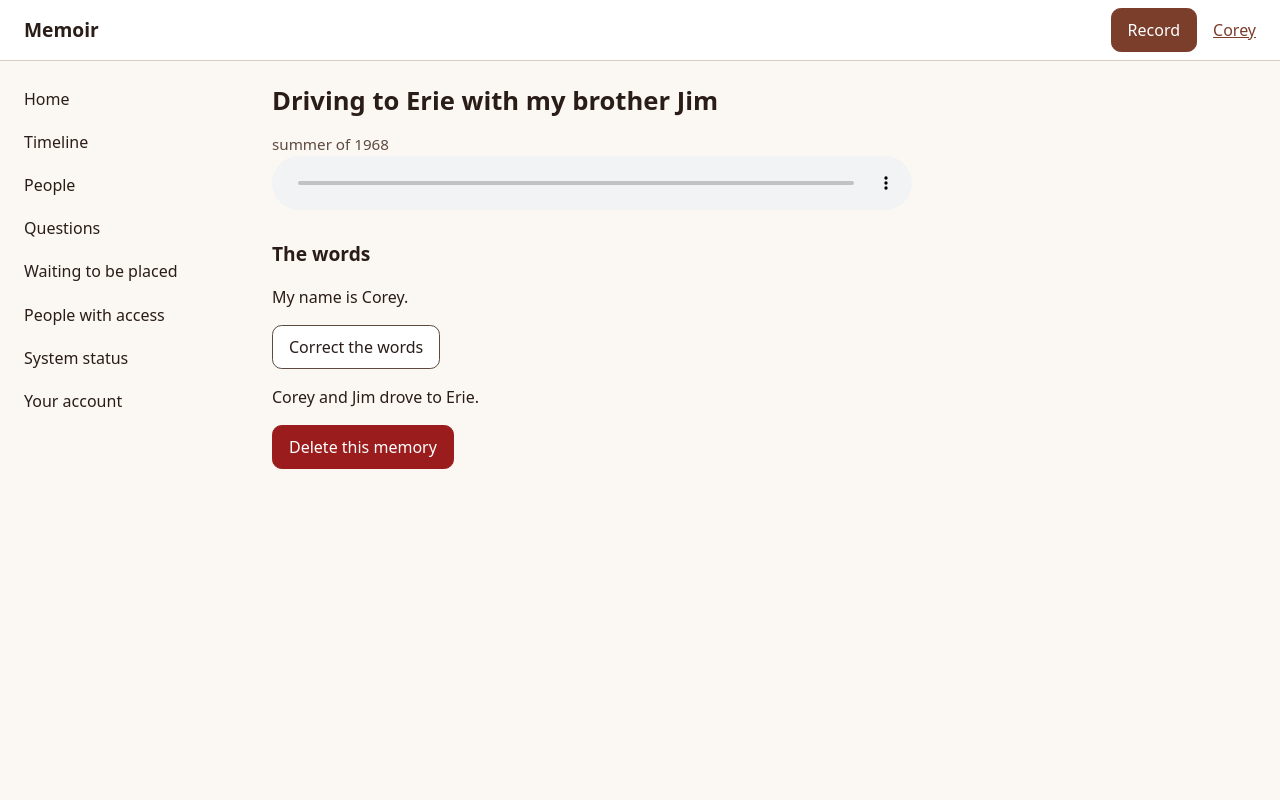
it: the words can be corrected
Click the button "Correct the words" at (356, 347), box [272,325,440,369]
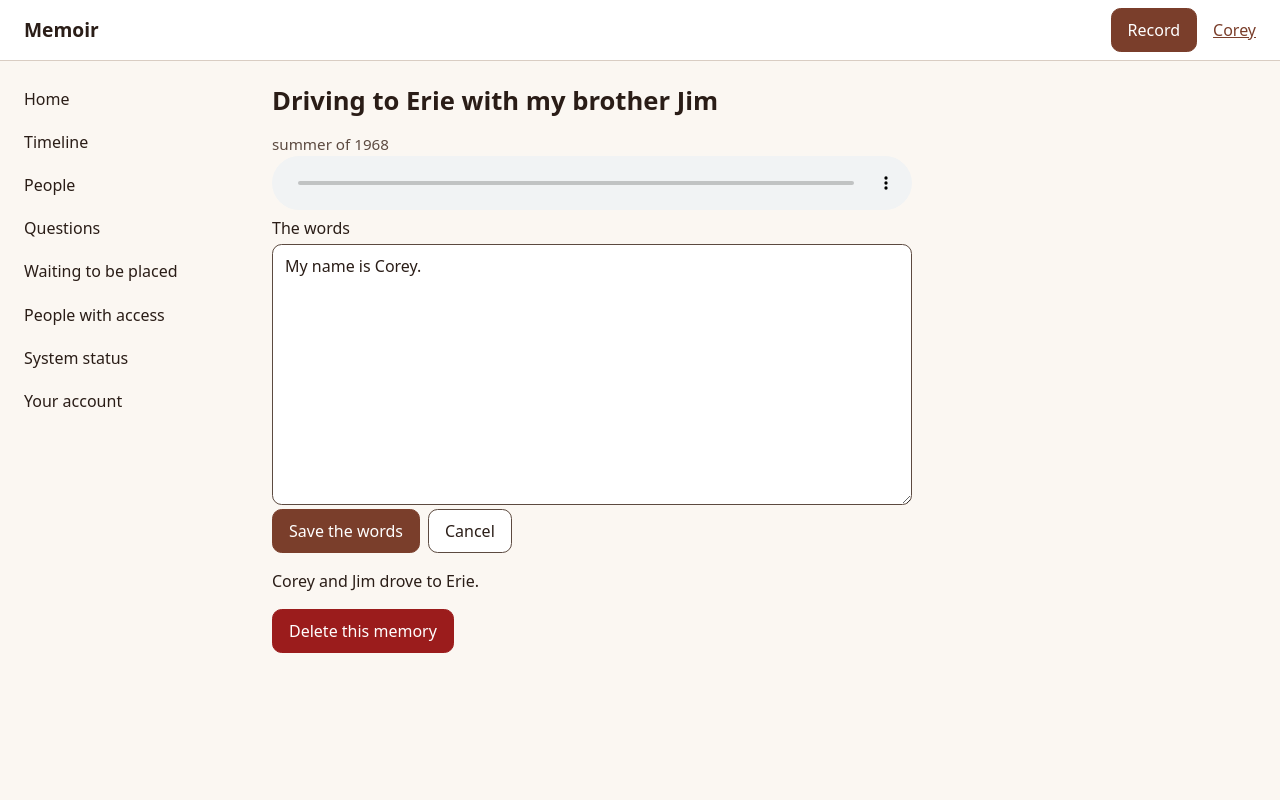
Replace the text in the text box labelled "The words" with "My name is Corey Murphy." at (592, 374), box [272,244,912,505]
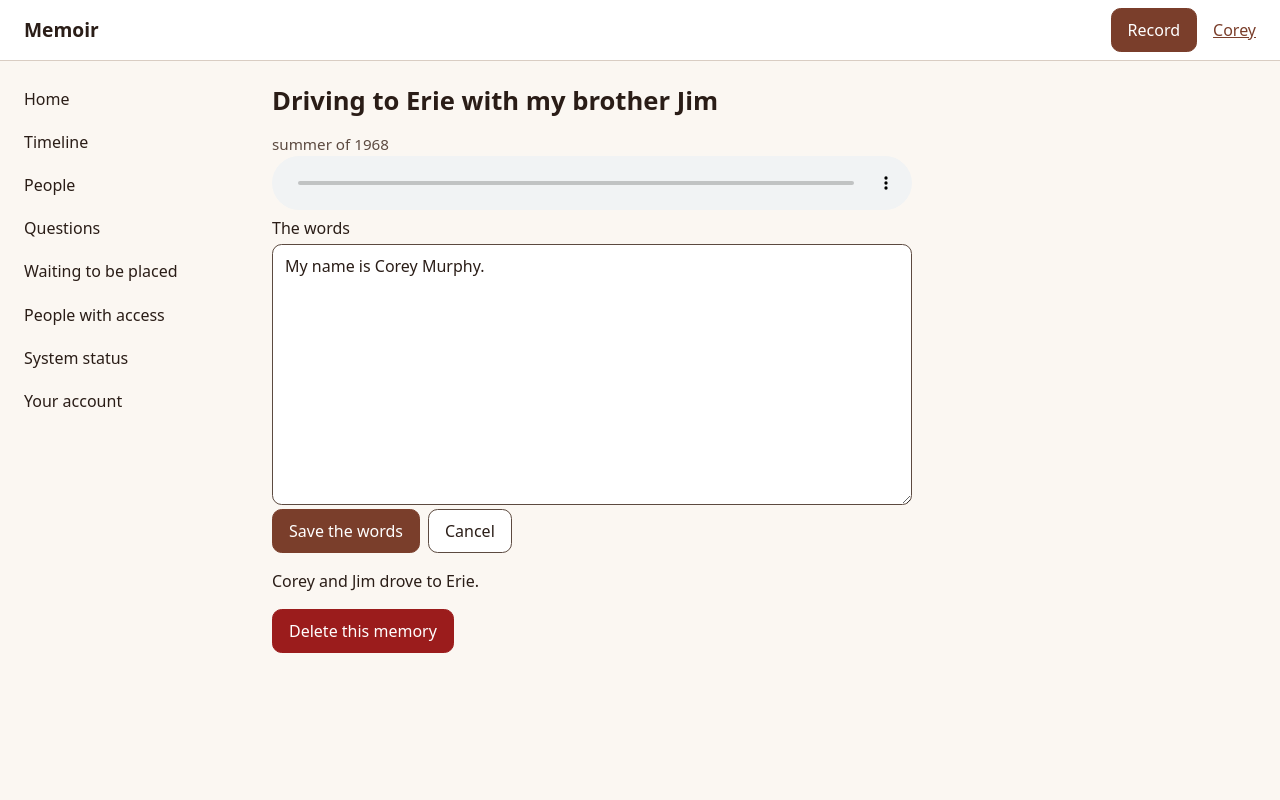
Click the button "Save the words" at (346, 531), box [272,509,420,553]
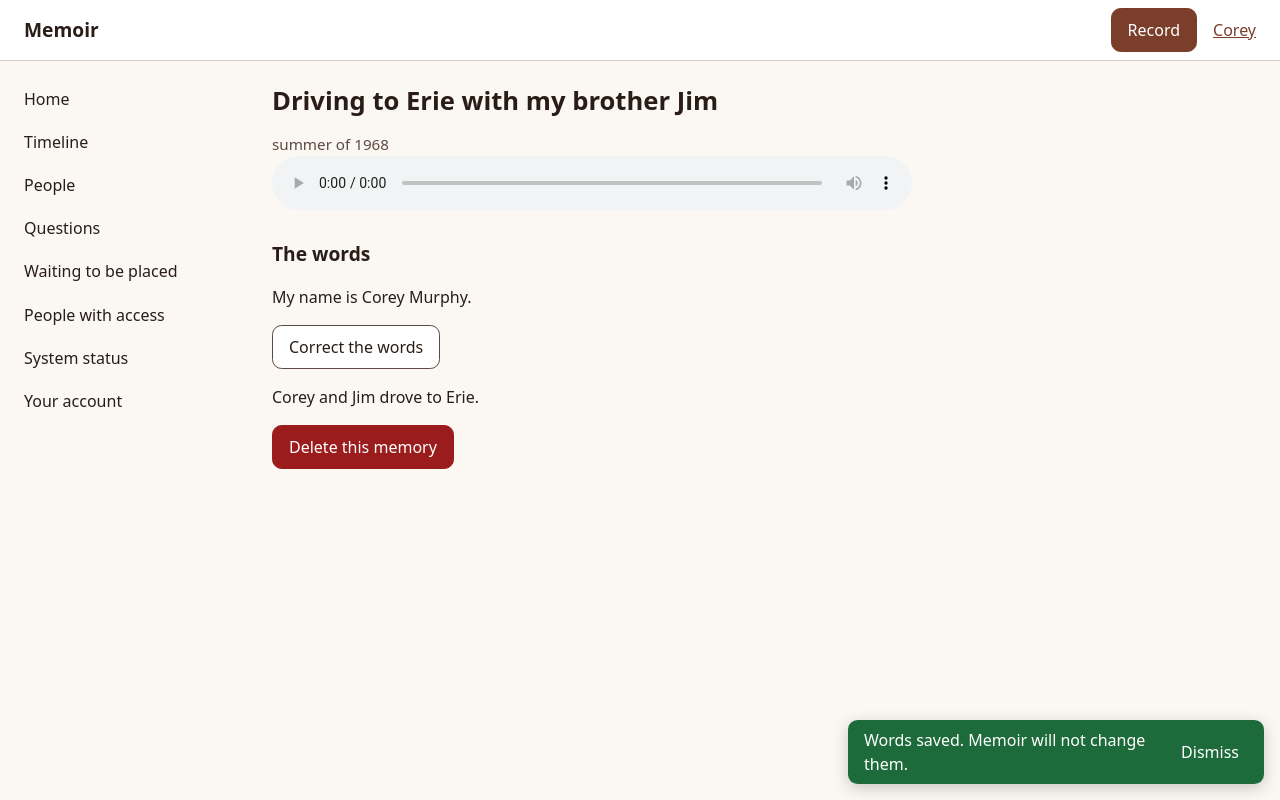
Result: the text "My name is Corey Murphy." is shown at [272,286,472,308]
Result: the text "Words saved. Memoir will not change them." is shown at [864,728,1152,776]
